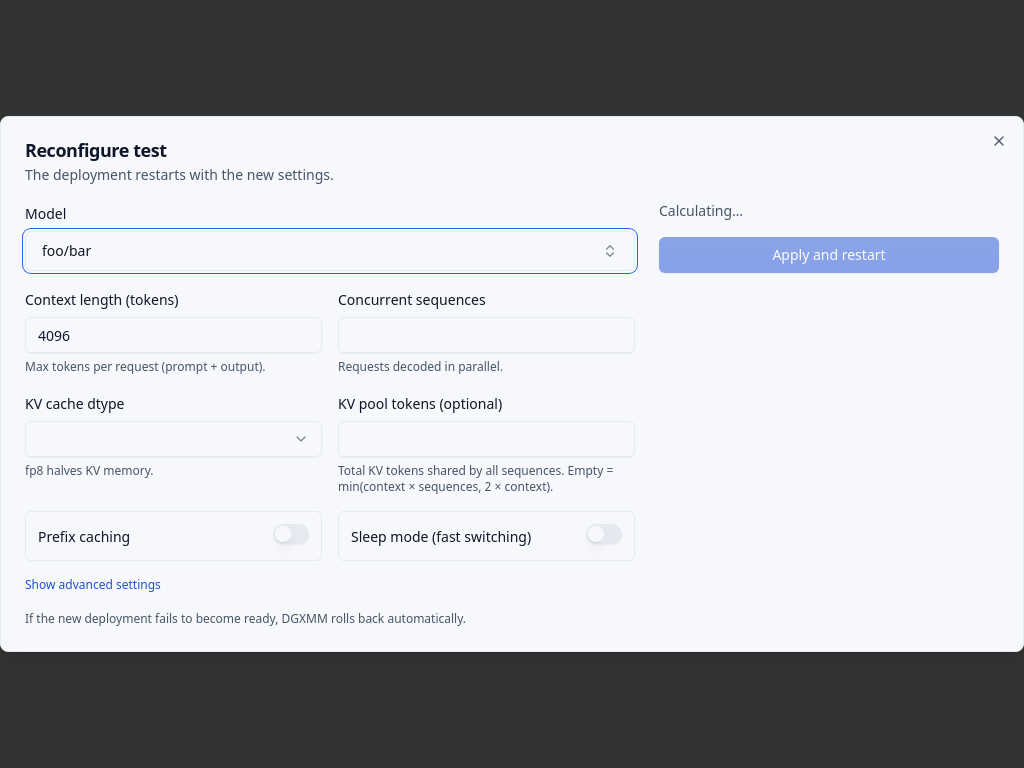
Scenario: SwitchDialog › ignores a stale preview that resolves after a newer one
The width and height of the screenshot is (1024, 768).
Replace the text in the number field labelled "Context length (tokens)" with "8192" at (174,335), box [25,317,322,353]
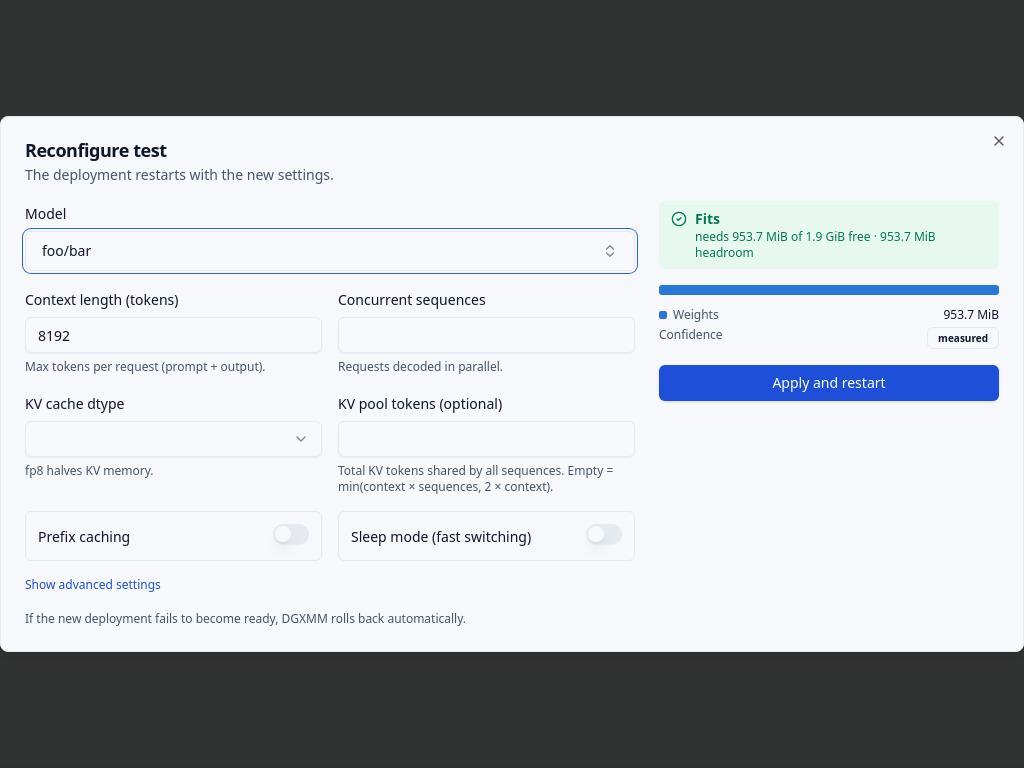
Expected: the text "Fits" is shown, [695,209,720,228]
